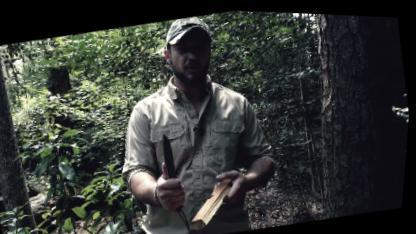knife: (151, 126, 194, 203)
